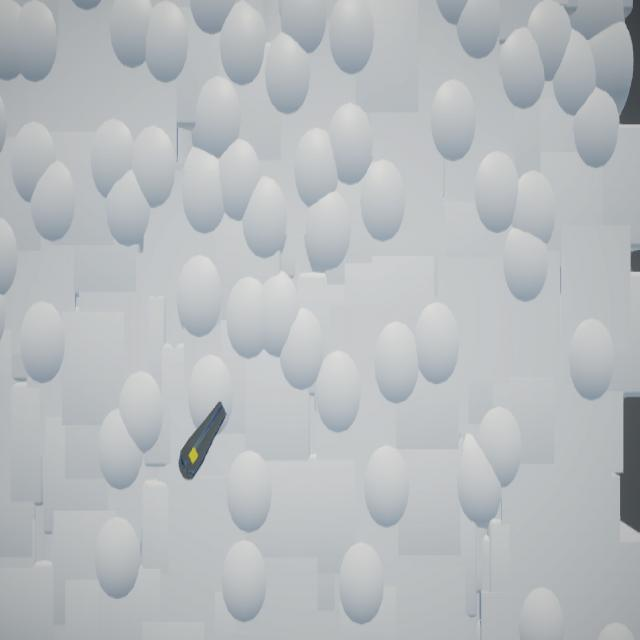handle_knife: (179, 402, 228, 480)
